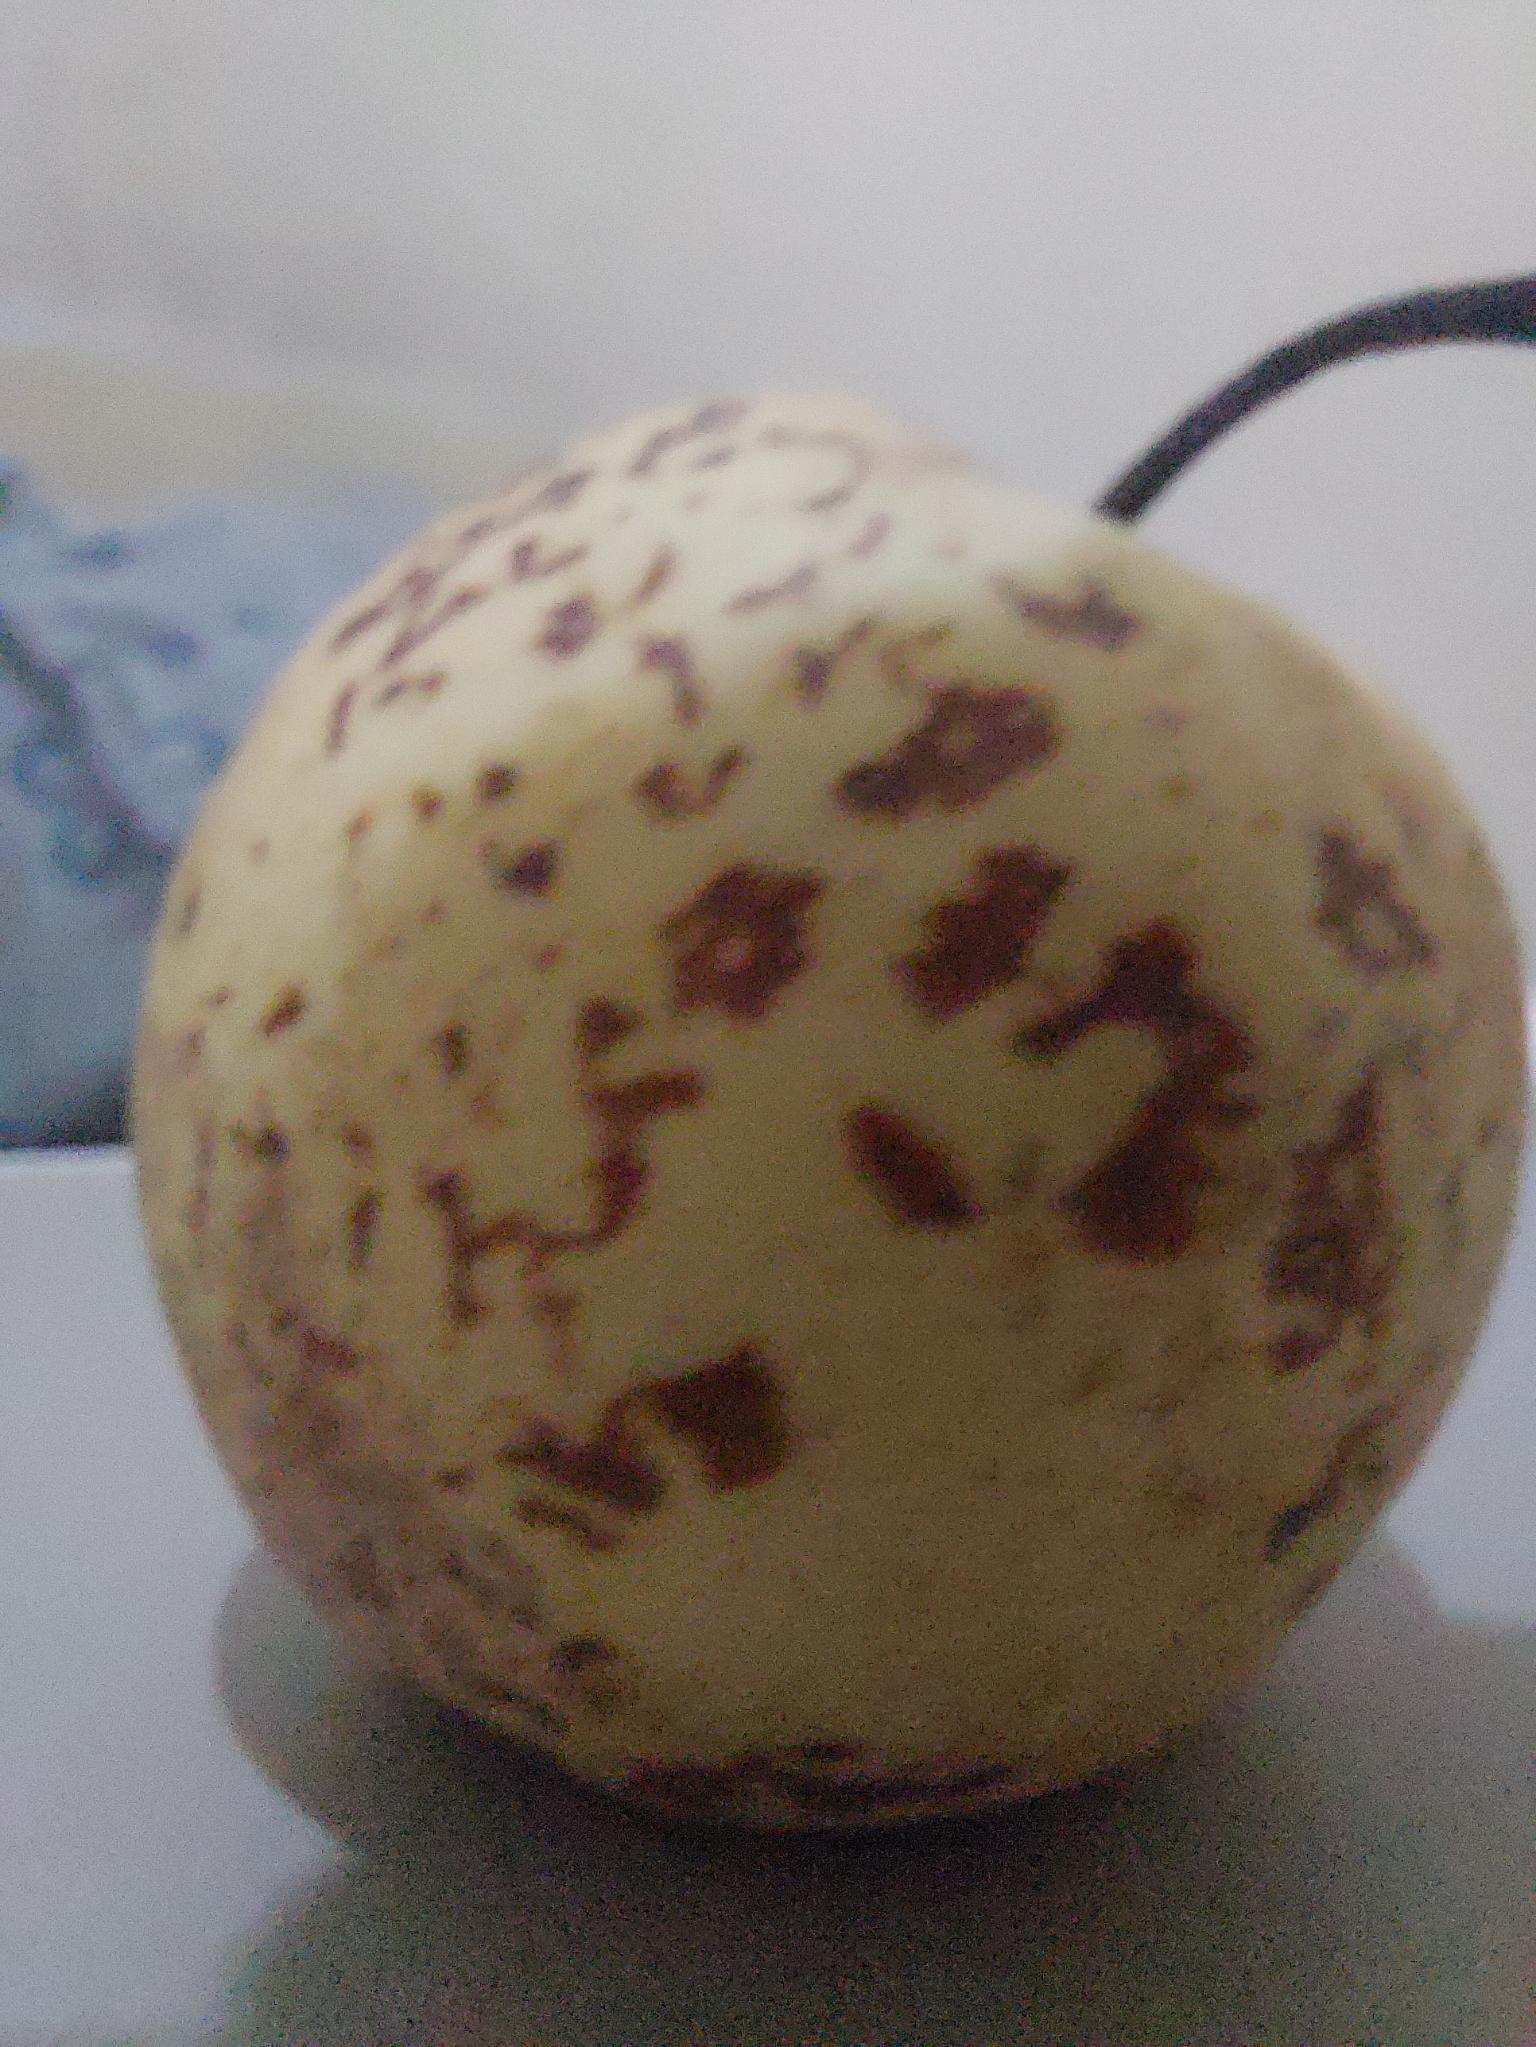Bad Pear: (132, 390, 1536, 1849)
